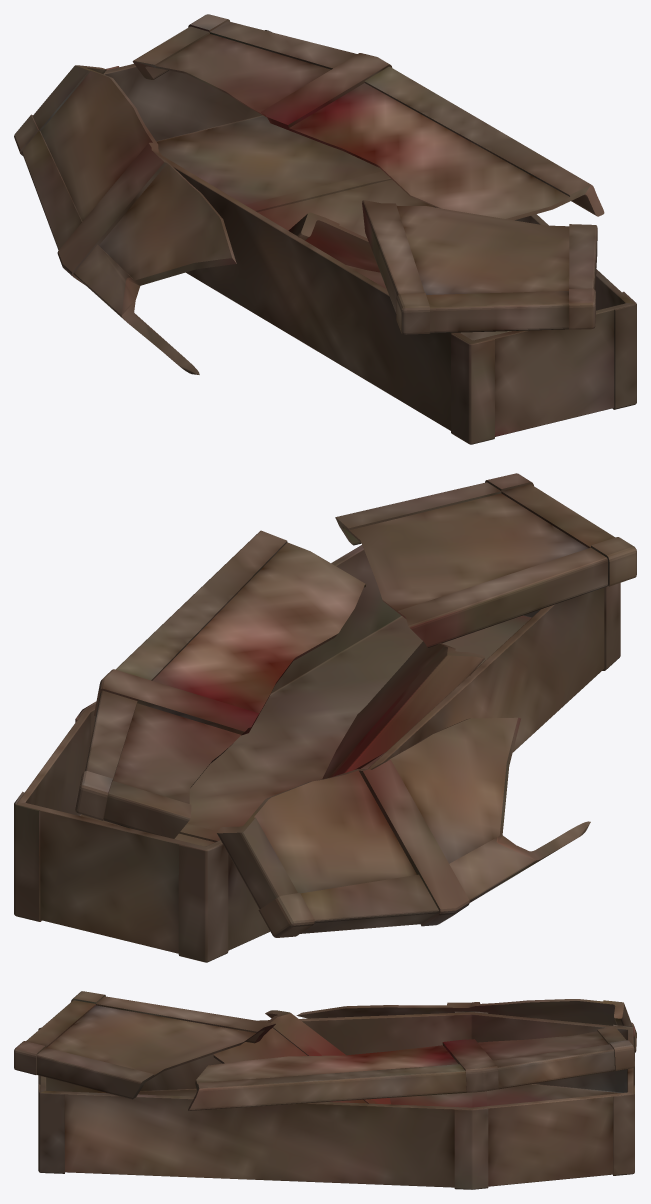
File: coffinb.glb
3 renders of one model, top to bottom at view 1: azimuth 30°, elevation 25°; view 2: azimuth 150°, elevation 25°; view 3: azimuth 270°, elevation 25°, orthographic. The views are drawn at different scales.
Parts seen in each view (by area): view 1: Coffin_low_Coffin_texture_0; view 2: Coffin_low_Coffin_texture_0; view 3: Coffin_low_Coffin_texture_0.
Part boxes in pixels (box(x1,y1,x2,y2)): Coffin_low_Coffin_texture_0: box(14, 14, 636, 444); Coffin_low_Coffin_texture_0: box(14, 473, 636, 962); Coffin_low_Coffin_texture_0: box(14, 991, 636, 1189).
Size of the model in its own units: 40.39 by 16.09 by 75.02.
1 material, 1 textured.
